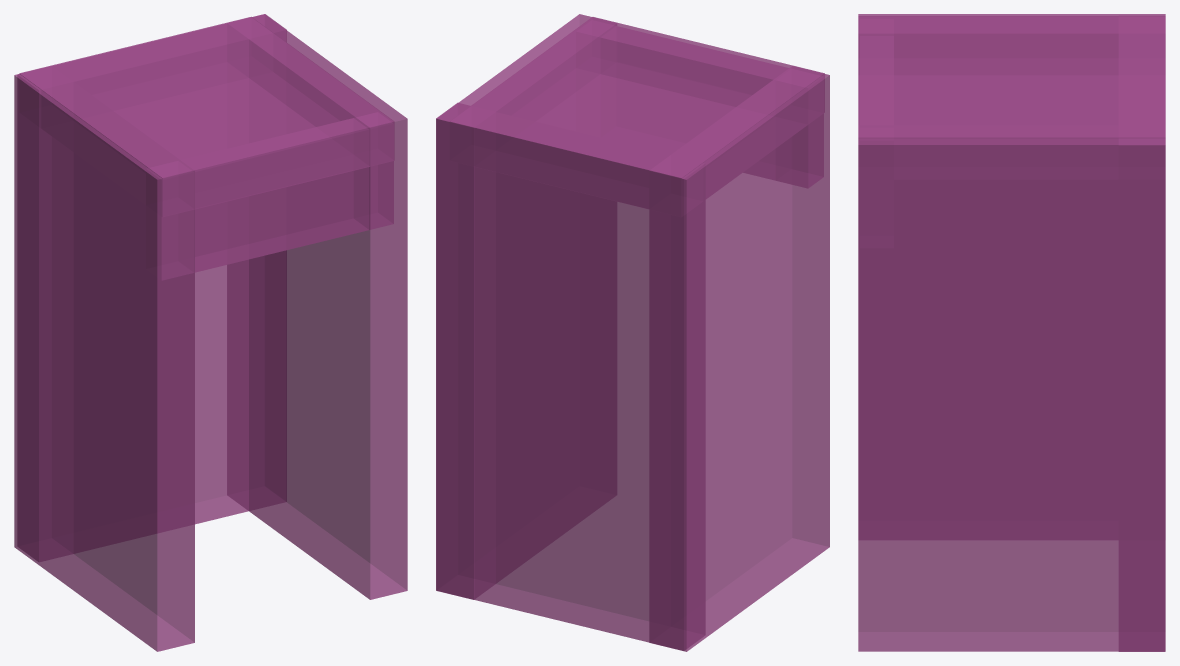
File: SM_Prop_Cage_01_Collision.fbx
3 renders of one model, left to right at view 1: azimuth 30°, elevation 25°; view 2: azimuth 150°, elevation 25°; view 3: azimuth 270°, elevation 25°, orthographic. The views are drawn at different scales.
Visible parts, largest first — view 1: SM_Prop_Cage_01_Collision; view 2: SM_Prop_Cage_01_Collision; view 3: SM_Prop_Cage_01_Collision.
Boxes of the visible parts, left/top/right/bottom form: SM_Prop_Cage_01_Collision: left=14, top=14, right=407, bottom=651; SM_Prop_Cage_01_Collision: left=436, top=14, right=829, bottom=651; SM_Prop_Cage_01_Collision: left=858, top=14, right=1165, bottom=651.
Bounding box in the file's own units: 152 × 274 × 150.
